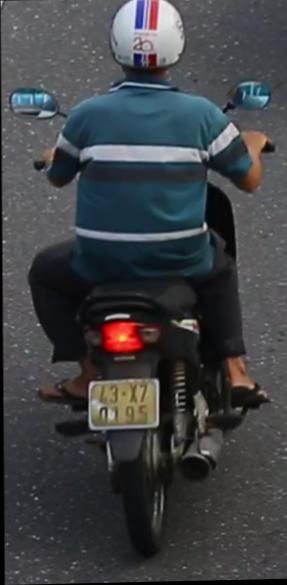LP: (84, 372, 163, 431)
helmet: (108, 0, 190, 98)
